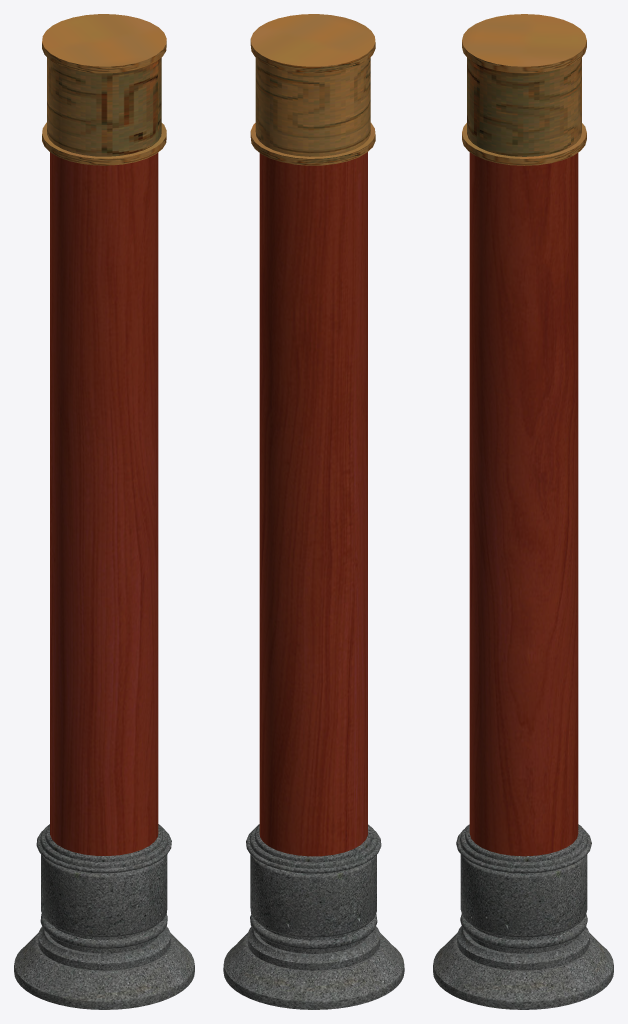
Rendered from zhuzi.FBX.
3 renders of one model, left to right at view 1: azimuth 30°, elevation 25°; view 2: azimuth 150°, elevation 25°; view 3: azimuth 270°, elevation 25°, orthographic.
Visible parts, largest first — view 1: highhigh; view 2: highhigh; view 3: highhigh.
Part boxes in pixels (box(x1,y1,x2,y2)): highhigh: box(14, 14, 194, 1009); highhigh: box(223, 14, 404, 1009); highhigh: box(433, 14, 613, 1009).
Bounding box in the file's own units: 61.63 × 350 × 61.63.
